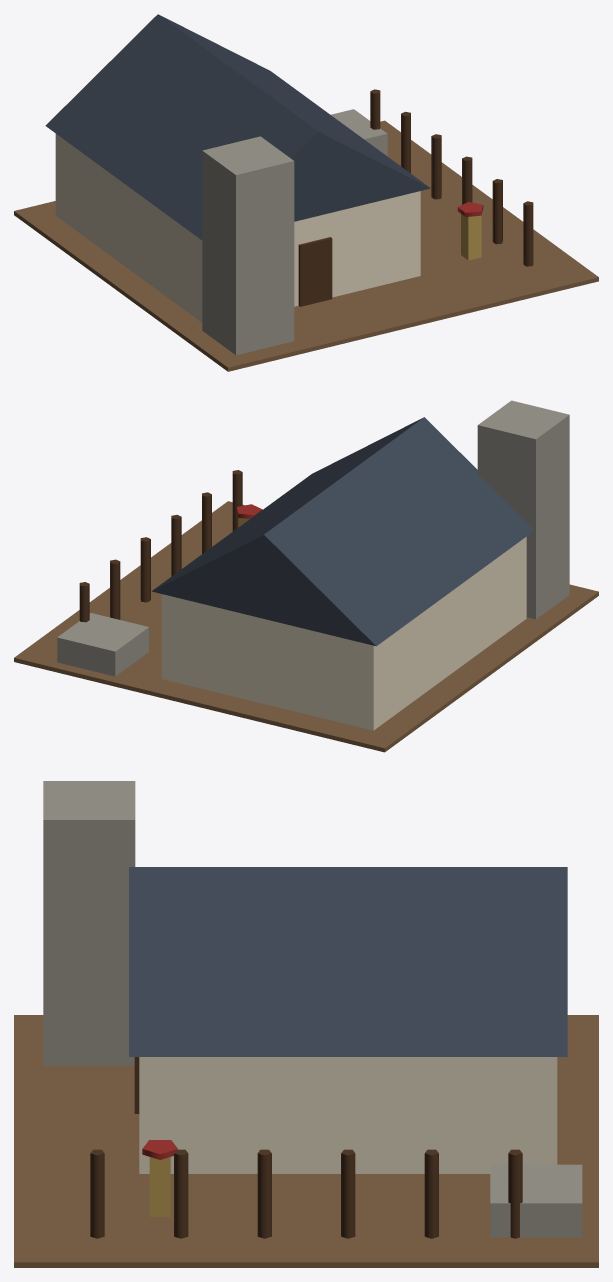
File: bld_special_barracks_a03_lod2.glb
3 renders of one model, top to bottom at view 1: azimuth 30°, elevation 25°; view 2: azimuth 150°, elevation 25°; view 3: azimuth 270°, elevation 25°, orthographic. The views are drawn at different scales.
Visible parts, largest first — view 1: body; view 2: body; view 3: body.
Part boxes in pixels (x1,y1,x2,y2): body: (14, 14, 598, 371); body: (14, 400, 598, 752); body: (14, 781, 598, 1267).
Size of the model in its own units: 14 by 6.65 by 14.
